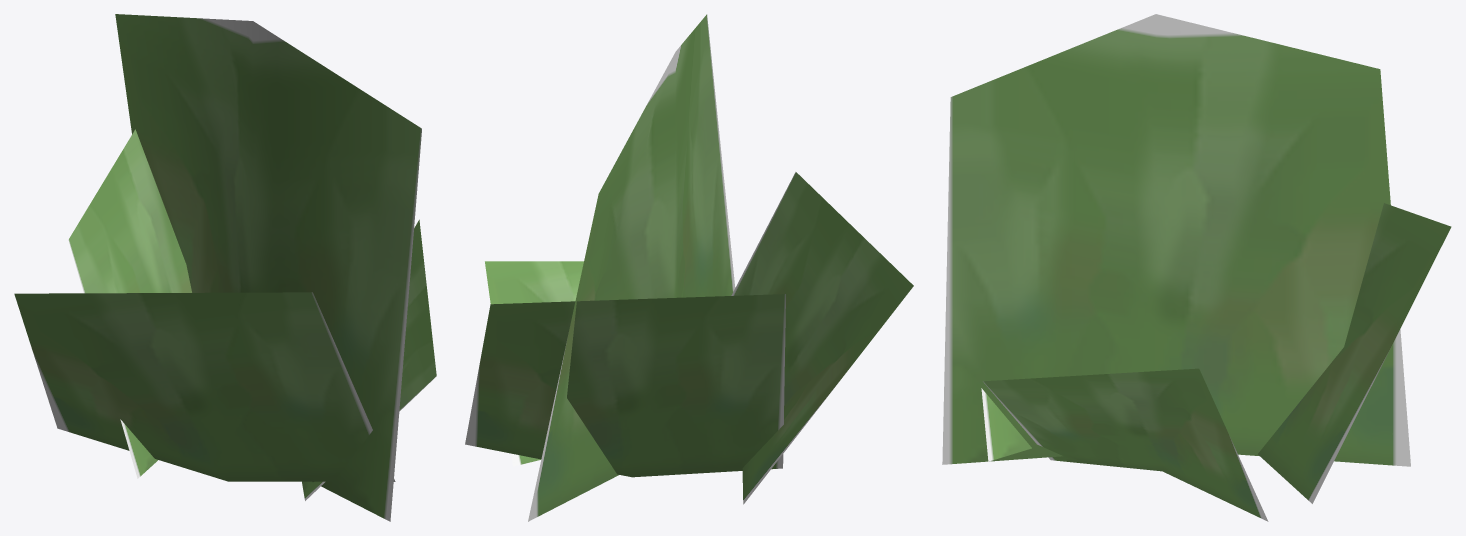
The model's file is SM_Grass_1.fbx.
The picture shows the model from 3 angles, left to right: view 1: azimuth 30°, elevation 25°; view 2: azimuth 150°, elevation 25°; view 3: azimuth 270°, elevation 25°; orthographic projection. The views are drawn at different scales.
Parts seen in each view (by area): view 1: SM_Grass_1; view 2: SM_Grass_1; view 3: SM_Grass_1.
Boxes of the visible parts, box(x1,y1,x2,y2) form: SM_Grass_1: box(14, 14, 436, 521); SM_Grass_1: box(465, 14, 913, 521); SM_Grass_1: box(942, 14, 1451, 521).
Bounding box in the file's own units: 47.61 × 46.11 × 47.52.
